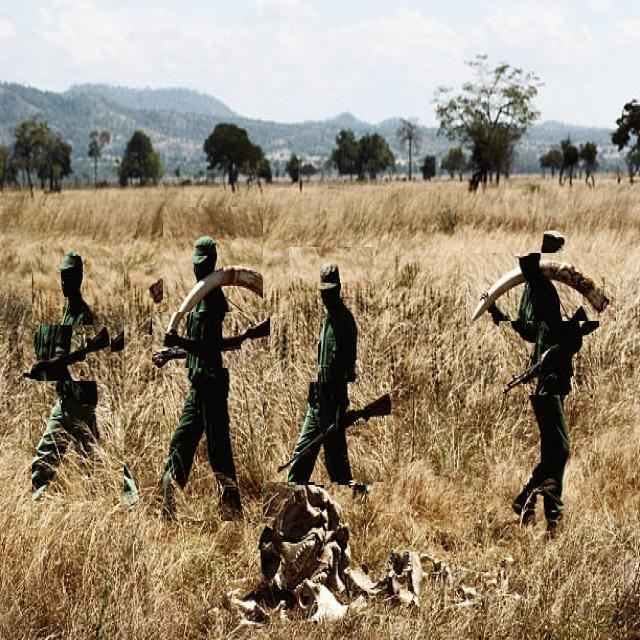p_annotate: (466, 253, 616, 321)
poacher: (163, 207, 263, 521), (501, 216, 588, 524), (32, 246, 124, 501), (289, 247, 373, 485)
weapon: (264, 382, 391, 482), (499, 302, 599, 395), (152, 312, 270, 368), (23, 325, 111, 381)
